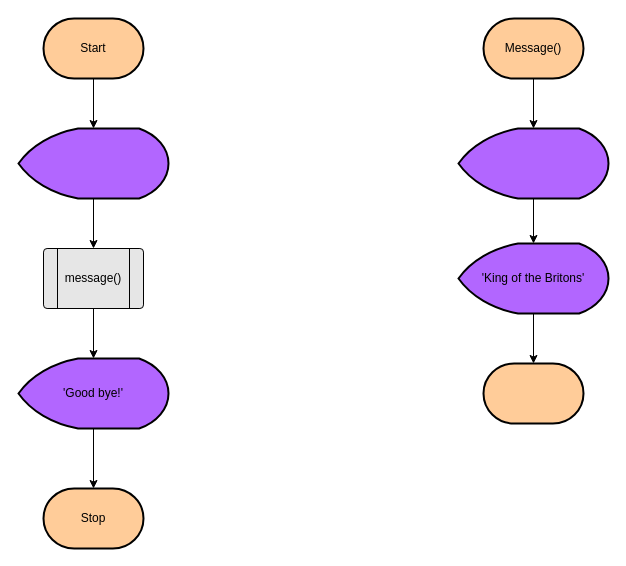
Some shapes in this 626 by 566 pixel diagram are drawn without their labels. The centre of each missing label's shape, as x and y in pixels:
'I am Arthur': pixel 533 163
'I have a mesage for you': pixel 93 163
Return: pixel 533 393
